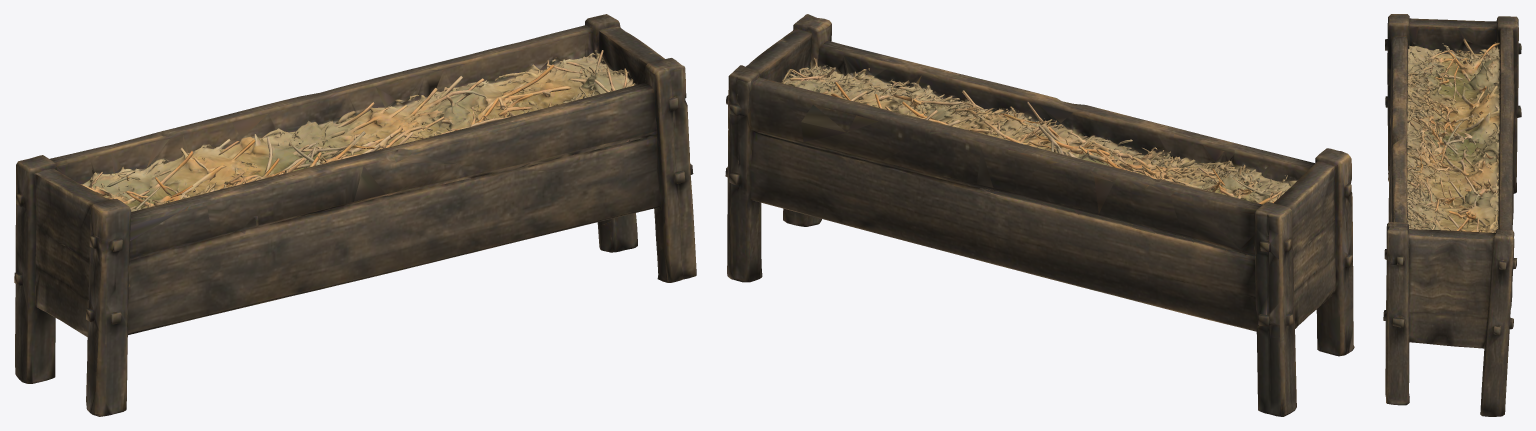
Rendered from straight-feeding-trough.glb.
3 views of the same model, side by side, from view 1: azimuth 30°, elevation 25°; view 2: azimuth 150°, elevation 25°; view 3: azimuth 270°, elevation 25° (orthographic). The views are drawn at different scales.
Parts seen in each view (by area): view 1: geometry_0; view 2: geometry_0; view 3: geometry_0.
Boxes of the visible parts, x1=… form: geometry_0: x1=14, y1=14, x2=696, y2=416; geometry_0: x1=725, y1=14, x2=1354, y2=416; geometry_0: x1=1383, y1=14, x2=1521, y2=416.
Bounding box in the file's own units: 1.8 × 0.65 × 0.45.
1 material, 1 textured.
